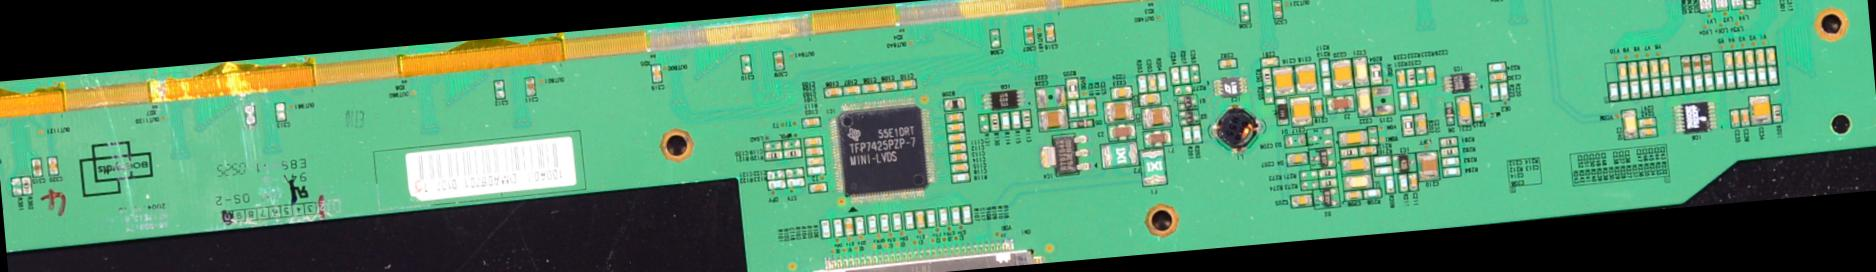Capacitor Jumper: (1035, 85, 1067, 110), (1272, 66, 1297, 97), (1749, 95, 1773, 127), (1102, 99, 1135, 122), (1330, 59, 1356, 89), (1417, 151, 1440, 182), (1295, 64, 1318, 93), (1141, 105, 1172, 128), (1290, 96, 1312, 127), (1037, 109, 1068, 131), (1621, 109, 1640, 140), (1456, 96, 1474, 128), (1344, 173, 1373, 191), (1353, 56, 1370, 87), (1340, 157, 1371, 174), (1356, 89, 1373, 116), (1340, 131, 1369, 147), (1139, 92, 1162, 107), (1287, 152, 1310, 167), (1291, 194, 1314, 208), (1271, 0, 1286, 20), (1285, 134, 1306, 149), (1415, 114, 1429, 137), (1111, 86, 1133, 99), (741, 54, 754, 75), (275, 102, 288, 122), (30, 157, 43, 177), (524, 75, 536, 97), (1345, 188, 1364, 201), (897, 79, 918, 91), (860, 81, 881, 93), (1647, 59, 1659, 79), (950, 162, 970, 174), (914, 210, 926, 230), (843, 217, 855, 237), (1239, 2, 1251, 23), (1044, 23, 1056, 43), (1023, 24, 1035, 44), (784, 168, 805, 179), (493, 79, 505, 98), (1219, 58, 1238, 69), (47, 157, 59, 176), (1146, 73, 1158, 92), (802, 117, 821, 129), (1425, 66, 1437, 85), (945, 111, 964, 123), (1659, 58, 1671, 77), (1638, 60, 1650, 79), (1627, 61, 1639, 80), (781, 139, 800, 151), (948, 132, 967, 144), (1312, 98, 1324, 117), (1740, 108, 1752, 127), (989, 28, 1001, 47), (651, 64, 663, 83), (1260, 58, 1280, 68), (945, 122, 966, 133), (948, 143, 968, 153), (805, 157, 826, 168), (949, 152, 969, 163), (808, 182, 828, 193), (1730, 109, 1741, 129), (1724, 52, 1736, 69), (773, 52, 785, 69), (842, 85, 861, 96), (823, 86, 842, 97), (1180, 65, 1190, 84), (1170, 66, 1181, 85), (1490, 72, 1509, 83), (763, 141, 782, 152), (766, 169, 785, 180), (1190, 64, 1202, 80), (804, 147, 824, 157), (882, 81, 900, 92), (1396, 69, 1407, 87), (1766, 47, 1777, 65), (1755, 48, 1766, 66), (804, 137, 822, 147), (1618, 62, 1628, 80), (1088, 98, 1097, 117), (1409, 90, 1419, 109), (1638, 117, 1657, 127), (1746, 49, 1755, 67), (1639, 128, 1657, 138), (1409, 173, 1419, 191), (1735, 50, 1744, 67)
IC: (1054, 137, 1078, 174), (1683, 103, 1710, 133), (992, 90, 1018, 110), (1222, 77, 1241, 97), (1452, 72, 1470, 92), (1399, 153, 1409, 171)
Resistor Jumper: (1401, 115, 1415, 137), (1135, 74, 1149, 93), (937, 207, 950, 226), (1396, 174, 1409, 193), (977, 114, 989, 134), (1767, 65, 1779, 85), (1472, 103, 1484, 123), (1439, 137, 1460, 149), (961, 205, 973, 225), (1318, 58, 1330, 77), (1415, 66, 1427, 85), (1406, 68, 1418, 87), (1066, 99, 1078, 119), (989, 113, 1001, 132), (999, 111, 1011, 131), (1011, 110, 1023, 129), (1397, 92, 1409, 111), (1746, 68, 1758, 87), (1714, 71, 1726, 90), (1693, 73, 1705, 92), (1673, 75, 1685, 95), (1651, 78, 1663, 97), (1181, 126, 1193, 145), (1442, 157, 1461, 169), (950, 206, 962, 225), (926, 208, 938, 228), (866, 214, 878, 234), (854, 217, 866, 236), (1172, 85, 1193, 96), (1022, 109, 1033, 129), (1192, 123, 1202, 144), (1443, 167, 1463, 177), (893, 212, 903, 232), (1385, 175, 1396, 195), (11, 179, 23, 197), (1373, 155, 1391, 167), (22, 176, 32, 195), (1078, 98, 1089, 117), (1263, 85, 1274, 104), (765, 150, 784, 161), (1756, 67, 1767, 86), (1725, 69, 1736, 89), (1630, 79, 1640, 98), (1609, 83, 1620, 102), (1299, 170, 1318, 181), (1301, 181, 1320, 192), (1704, 73, 1714, 91), (1640, 79, 1651, 97), (1375, 167, 1393, 177), (786, 177, 805, 187), (767, 180, 786, 189), (950, 174, 969, 183), (1440, 147, 1460, 157), (1619, 83, 1630, 99), (1157, 73, 1167, 91), (1262, 68, 1272, 86), (1488, 62, 1506, 72), (1322, 78, 1332, 96), (1490, 84, 1499, 102), (1736, 69, 1746, 87), (1683, 75, 1693, 93), (904, 211, 914, 229), (821, 219, 830, 237), (879, 214, 889, 232), (834, 219, 843, 237), (784, 149, 802, 157), (1500, 83, 1509, 101), (1663, 77, 1671, 95), (808, 167, 826, 175), (1318, 169, 1336, 177), (1318, 179, 1336, 187)
